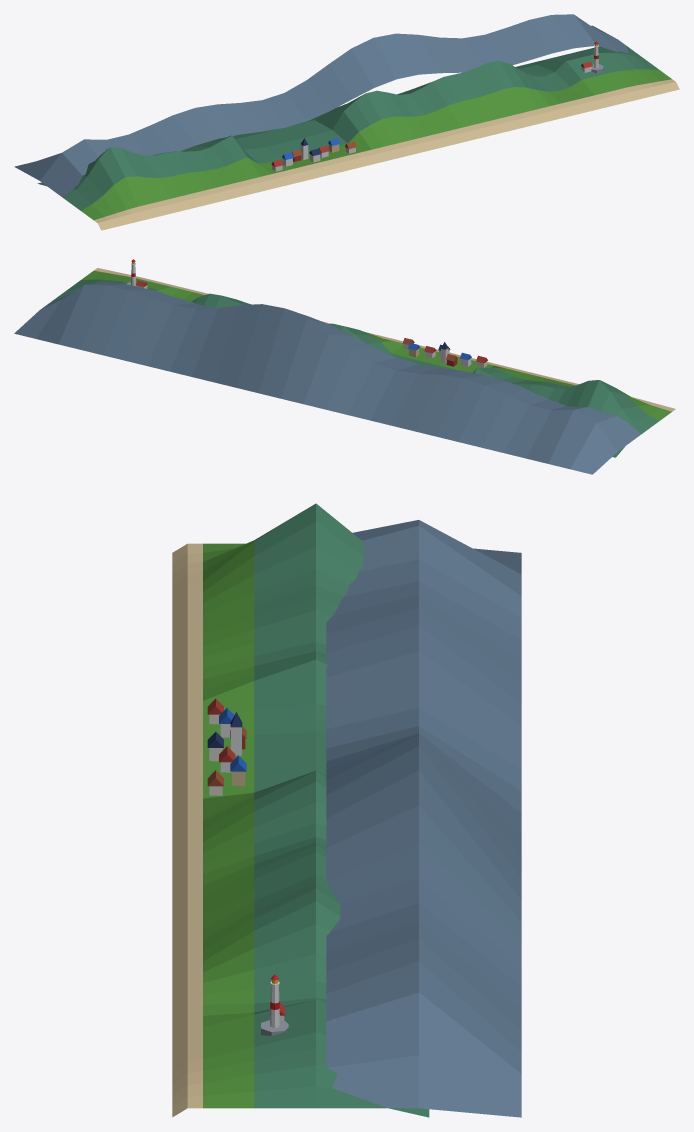
Rendered from far_shore.glb.
3 views of the same model, one above another, from view 1: azimuth 30°, elevation 25°; view 2: azimuth 150°, elevation 25°; view 3: azimuth 270°, elevation 25° (orthographic). The views are drawn at different scales.
Parts seen in each view (by area): view 1: far_shore; view 2: far_shore; view 3: far_shore.
Boxes of the visible parts, x1=… form: far_shore: x1=14, y1=14, x2=679, y2=230; far_shore: x1=14, y1=259, x2=675, y2=474; far_shore: x1=172, y1=503, x2=521, y2=1117.
Size of the model in its own units: 260 by 28.46 by 68.
